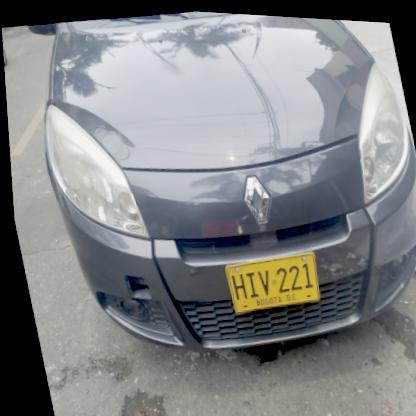placa: (213, 240, 323, 317)
